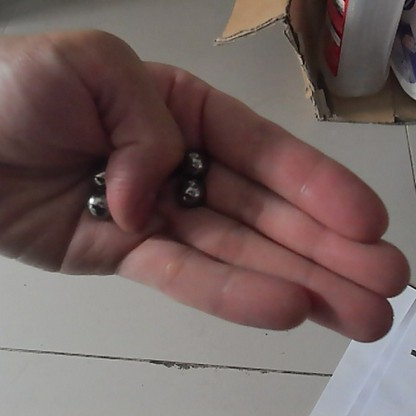ironball: (175, 175, 206, 210), (84, 190, 114, 224), (176, 149, 207, 175), (87, 165, 110, 187)
